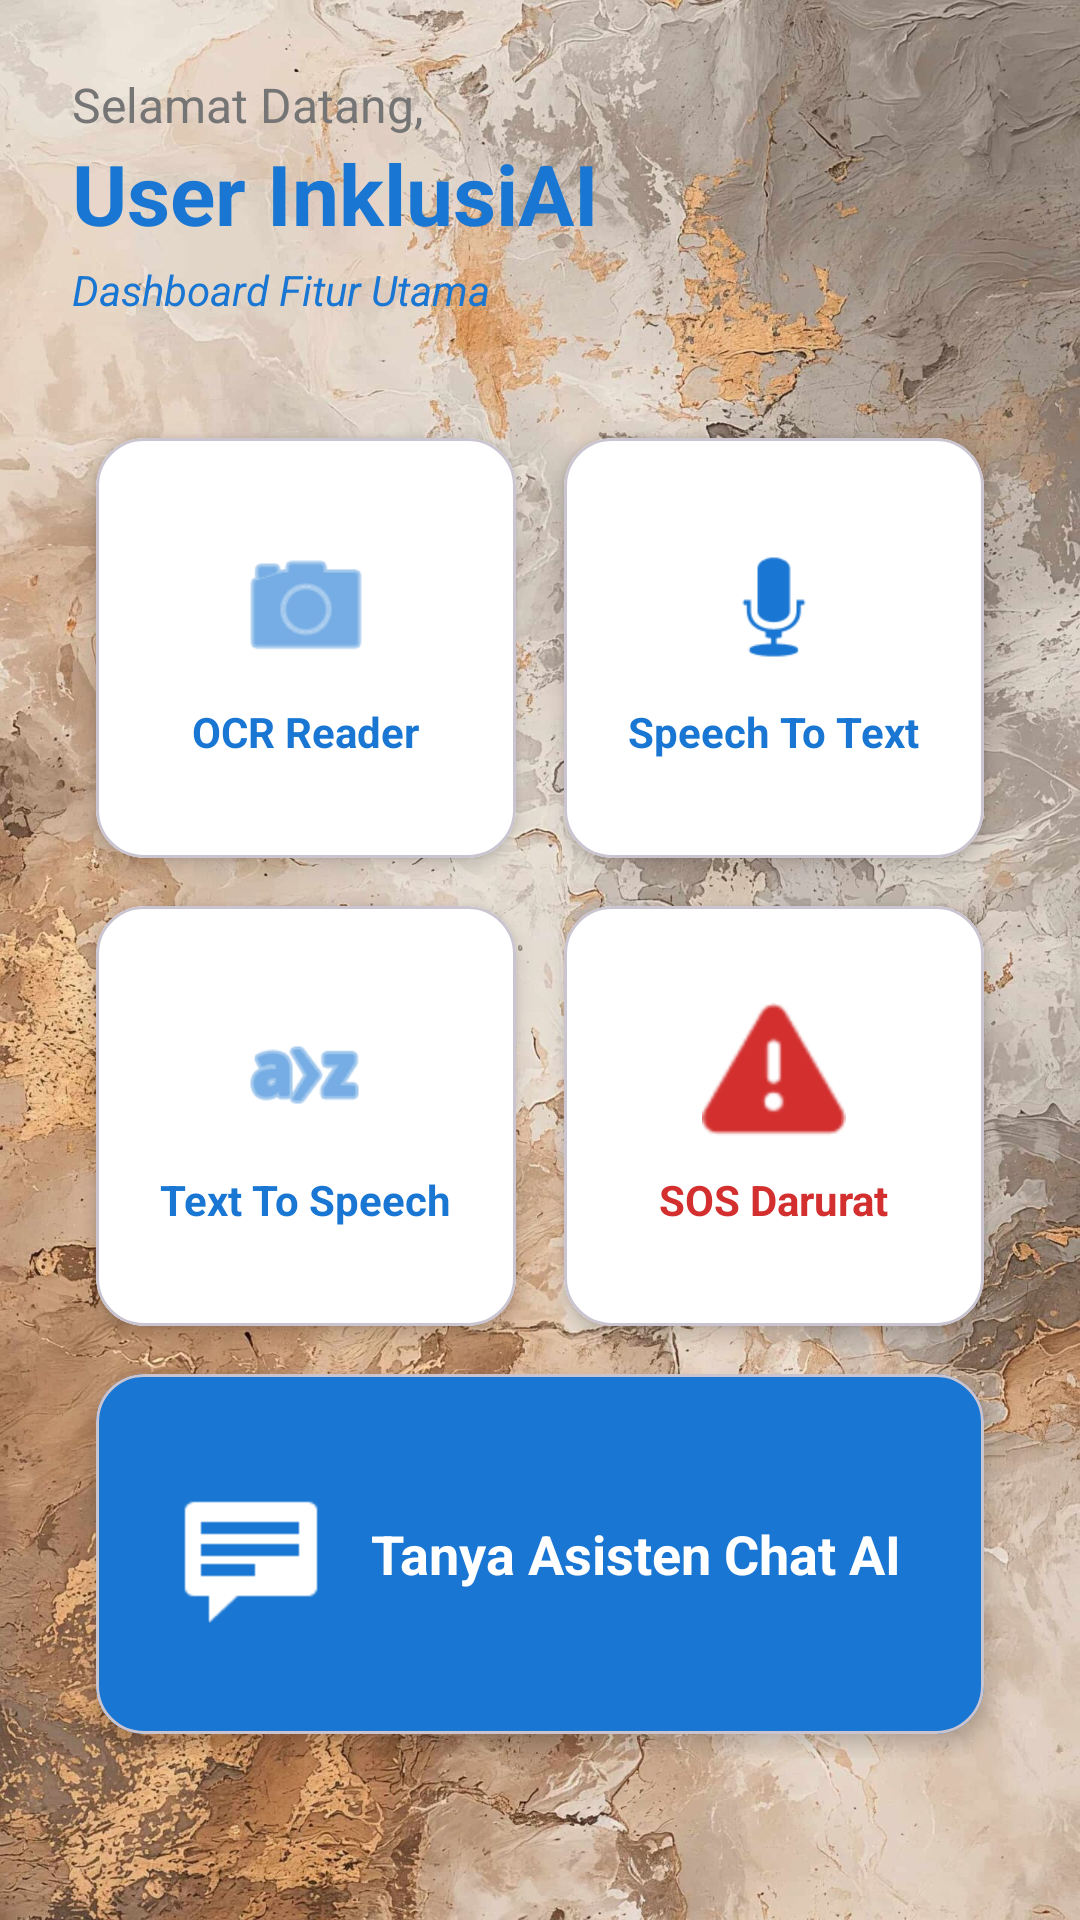

Icons on this 1080 x 1920 Android screen, each with its box as [x1, y1, x2, y2]:
alert: [702, 1003, 846, 1134]
camera: [250, 560, 362, 649]
sort alphabetically: [250, 1046, 359, 1104]
speak now: [742, 557, 806, 657]
